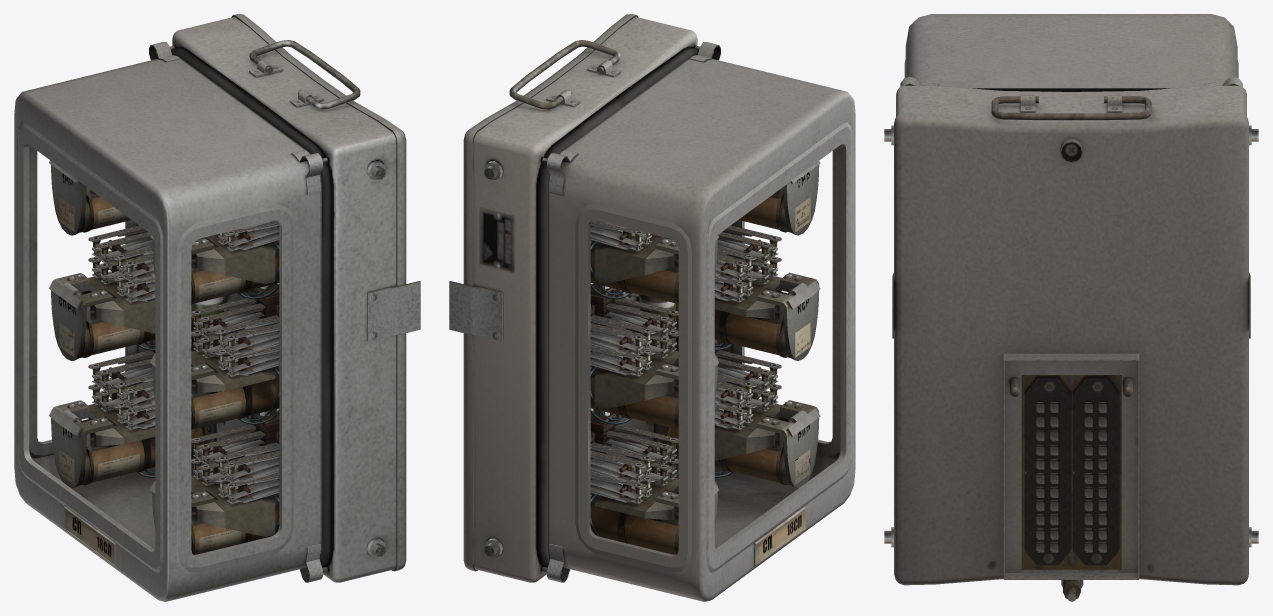
3 renders of one model, left to right at view 1: azimuth 30°, elevation 25°; view 2: azimuth 150°, elevation 25°; view 3: azimuth 270°, elevation 25°, orthographic. The views are drawn at different scales.
Visible parts, largest first — view 1: cp_18; view 2: cp_18; view 3: cp_18.
Boxes of the visible parts, x1,y1,x2,y2 form: cp_18: [14, 14, 420, 601]; cp_18: [449, 14, 855, 601]; cp_18: [884, 14, 1258, 601].
Size of the model in its own units: 0.1731 by 0.296 by 0.2056.
